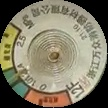green: (3, 66, 31, 100)
needle: (6, 64, 34, 87)
red: (24, 88, 75, 108)
yellow: (2, 22, 22, 69)
